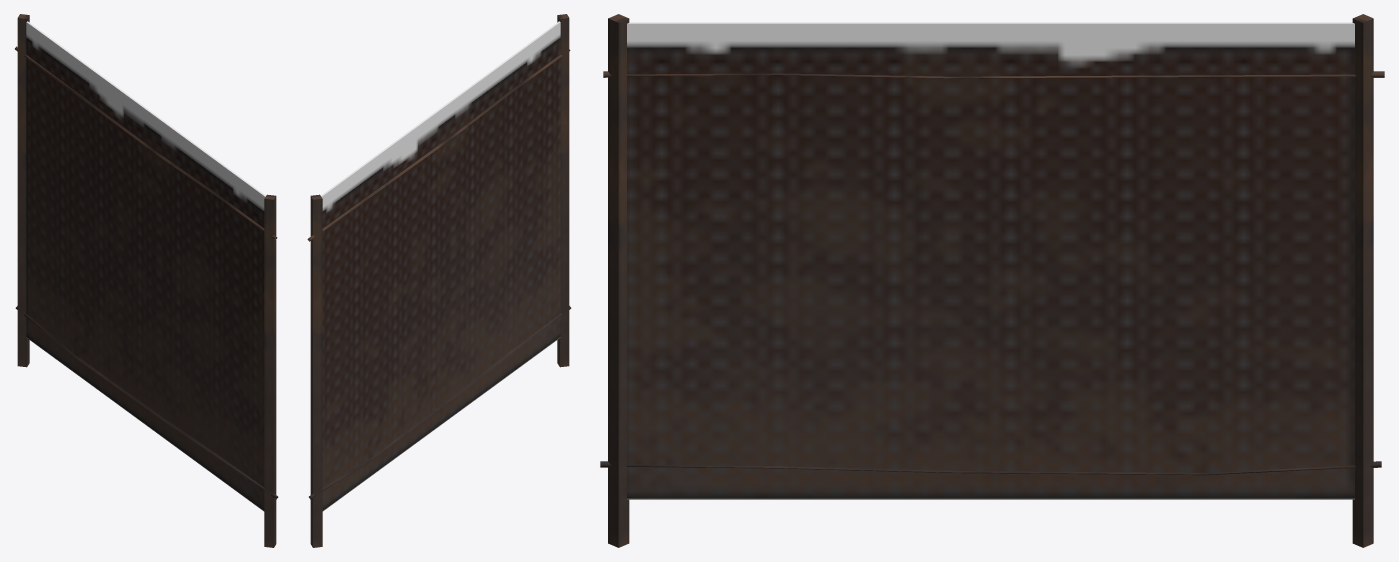
Rendered from bz_wirefence_01.fbx.
3 views of the same model, side by side, from view 1: azimuth 30°, elevation 25°; view 2: azimuth 150°, elevation 25°; view 3: azimuth 270°, elevation 25° (orthographic). The views are drawn at different scales.
Visible parts, largest first — view 1: bz_fence_wire_01, bz_fence_frame_01; view 2: bz_fence_wire_01, bz_fence_frame_01; view 3: bz_fence_wire_01, bz_fence_frame_01.
Part boxes in pixels (left/top/right/bottom): bz_fence_wire_01: left=26, top=21, right=265, bottom=511; bz_fence_frame_01: left=15, top=14, right=278, bottom=547; bz_fence_wire_01: left=321, top=21, right=560, bottom=511; bz_fence_frame_01: left=307, top=14, right=571, bottom=547; bz_fence_wire_01: left=627, top=22, right=1354, bottom=499; bz_fence_frame_01: left=600, top=14, right=1384, bottom=547.
Size of the model in its own units: 0.08 by 2.2 by 2.98.
